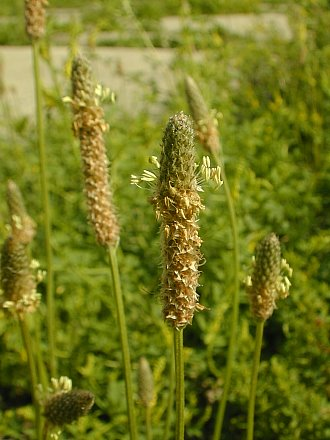buckhorn plantain: (58, 50, 127, 251), (155, 112, 204, 340), (244, 226, 287, 339)
